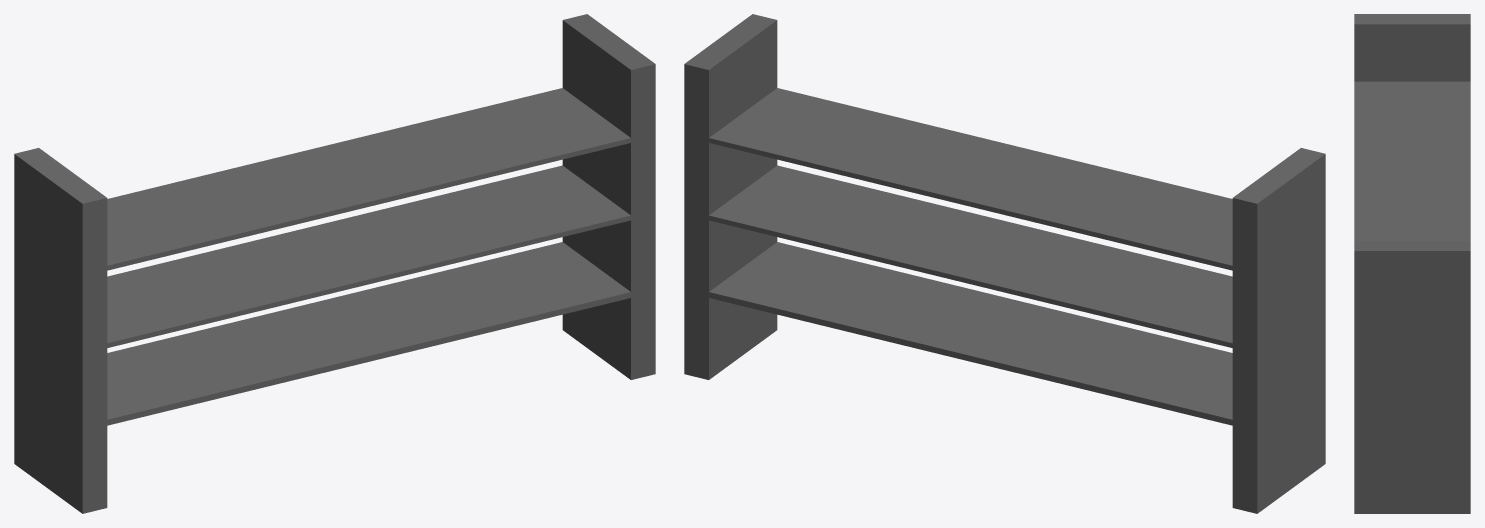
Rendered from Shelf Low Poly.glb.
3 views of the same model, side by side, from view 1: azimuth 30°, elevation 25°; view 2: azimuth 150°, elevation 25°; view 3: azimuth 270°, elevation 25° (orthographic). The views are drawn at different scales.
Parts seen in each view (by area): view 1: Cube.001; view 2: Cube.001; view 3: Cube.001.
Boxes of the visible parts, <box> form: Cube.001: <box>14,14,655,513</box>; Cube.001: <box>684,14,1325,513</box>; Cube.001: <box>1354,14,1470,513</box>.
Bounding box in the file's own units: 11.6 × 6 × 2.4.
Materials: 2 (2 with a texture image).
